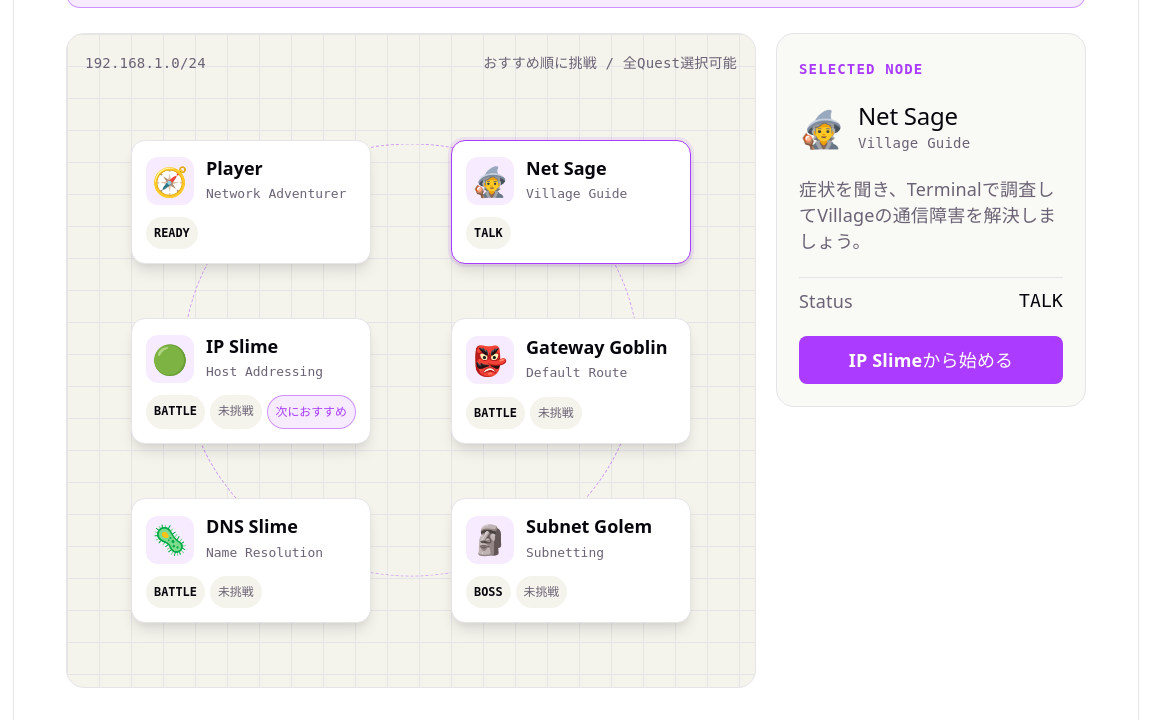
Test case: LAN Village › opens the Gateway Goblin request from its selected node
(page scrolled)
Click the button "👺 Gateway Goblin Default Route BATTLE 未挑戦" at (571, 381), box [451, 318, 691, 444]
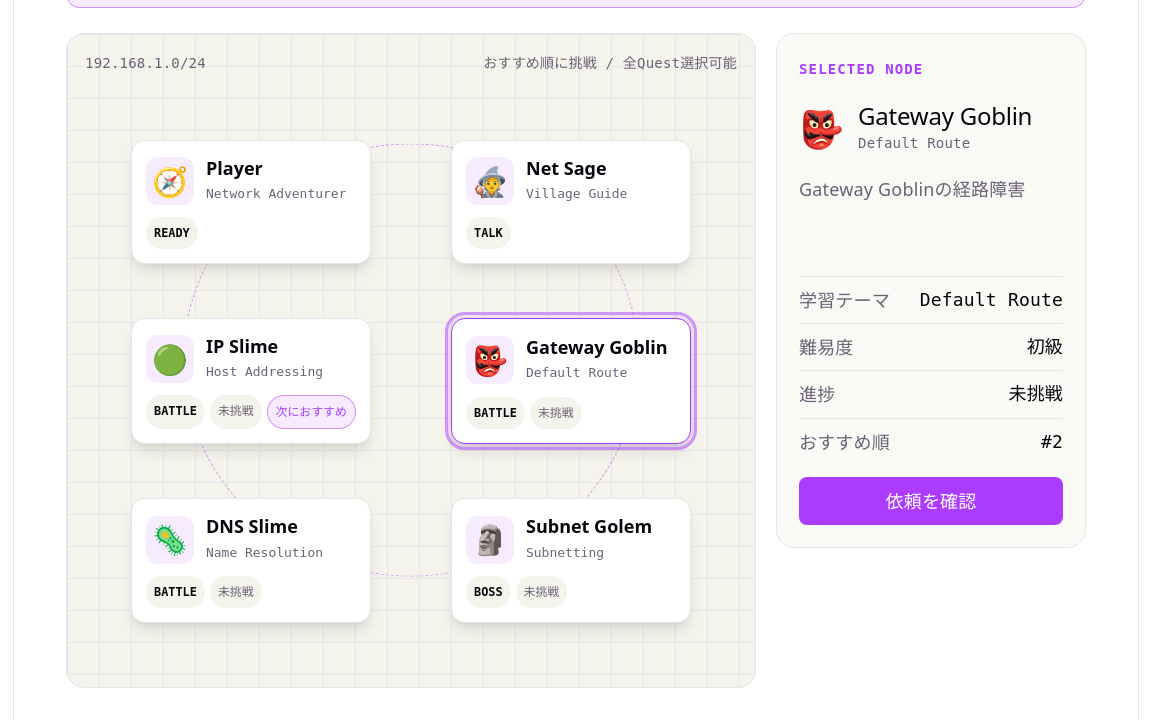
expect the heading "Gateway Goblin" is shown: met, box [858, 102, 1032, 130]
